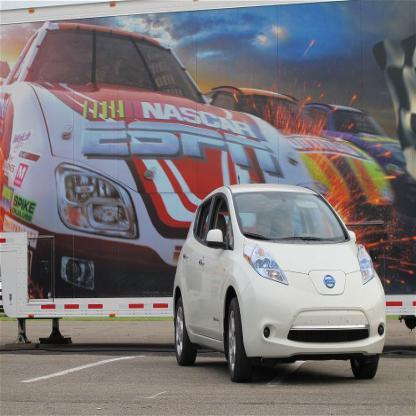Vehicle: (1, 23, 316, 298)
